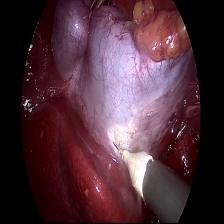Hook: (110, 138, 162, 202)
